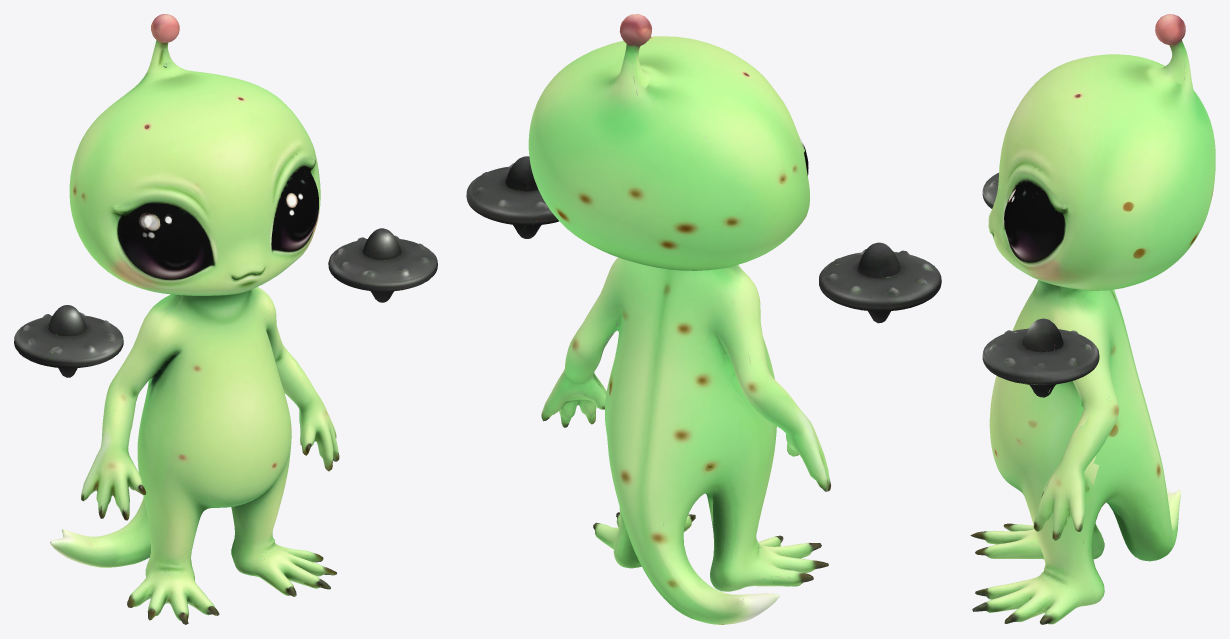
The model's file is cosmo-B_sculpture-draco.glb.
3 views of the same model, side by side, from view 1: azimuth 30°, elevation 25°; view 2: azimuth 150°, elevation 25°; view 3: azimuth 270°, elevation 25° (orthographic). The views are drawn at different scales.
Parts seen in each view (by area): view 1: Mesh_0; view 2: Mesh_0; view 3: Mesh_0.
Boxes of the visible parts, bbox=[...] form: Mesh_0: bbox=[14, 14, 437, 624]; Mesh_0: bbox=[466, 14, 941, 624]; Mesh_0: bbox=[970, 14, 1215, 624].
Size of the model in its own units: 1.55 by 1.91 by 0.7568.
Materials: 1 (1 with a texture image).
